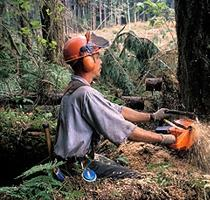person: (50, 36, 178, 182)
